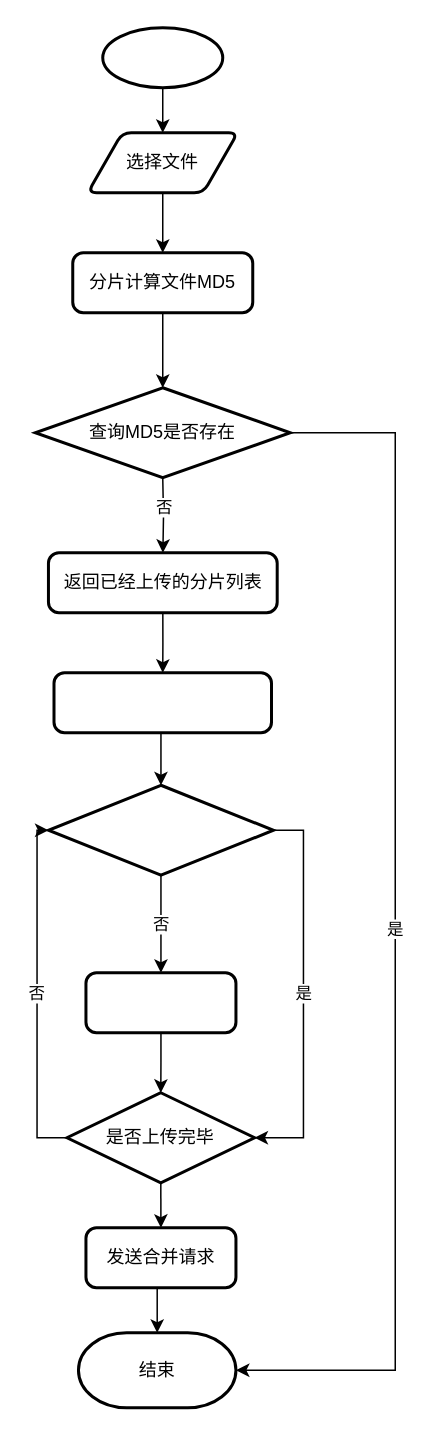
Image size: 434x1434. Some labels were removed from this diagram. The shapes that lost their labels are listed below. From the top down, each one's centre as x and y in pixels, then its label:
At (x=162, y=57): "开始".
At (x=162, y=702): "筛选出未上传列表".
At (x=160, y=829): "是否已经上传".
At (x=160, y=1002): "上传分片".
